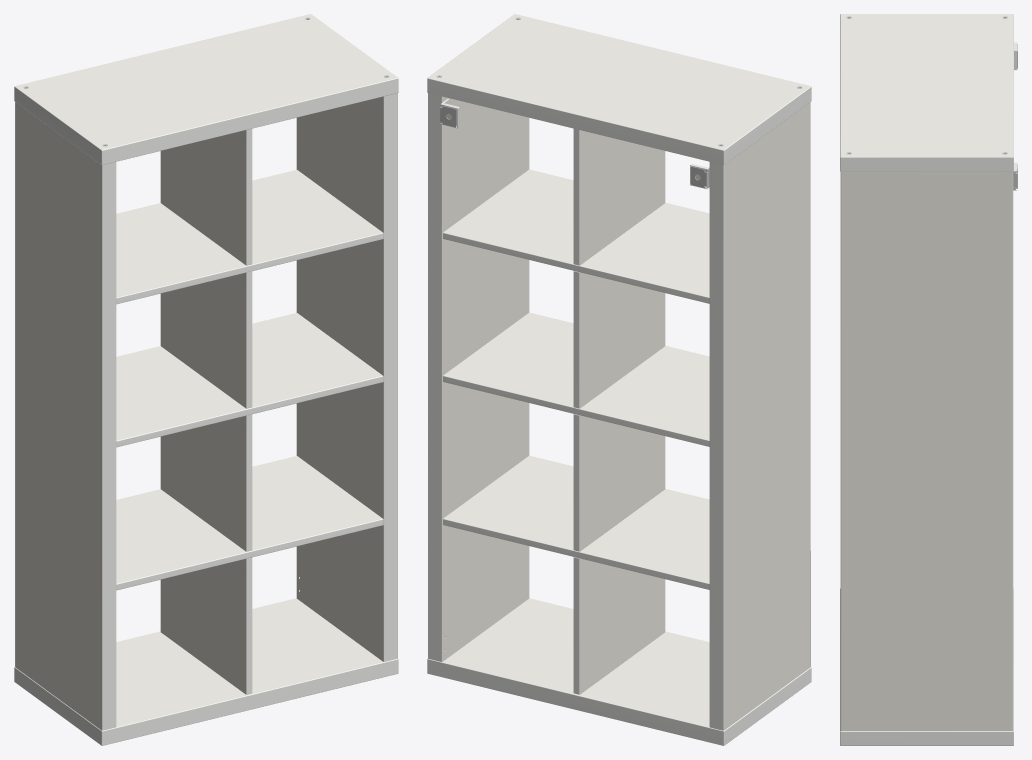
File: 06 - KALLAX Shelving unit - white 77x147 cm.glb
The picture shows the model from 3 angles, left to right: view 1: azimuth 30°, elevation 25°; view 2: azimuth 150°, elevation 25°; view 3: azimuth 270°, elevation 25°; orthographic projection.
Parts seen in each view (by area): view 1: Mesh_0; view 2: Mesh_0; view 3: Mesh_0.
Part boxes in pixels (<box>): Mesh_0: <box>14,14,398,745</box>; Mesh_0: <box>427,14,811,745</box>; Mesh_0: <box>840,14,1017,745</box>.
Size of the model in its own units: 0.765 by 1.47 by 0.401.
Materials: 1 (1 with a texture image).
